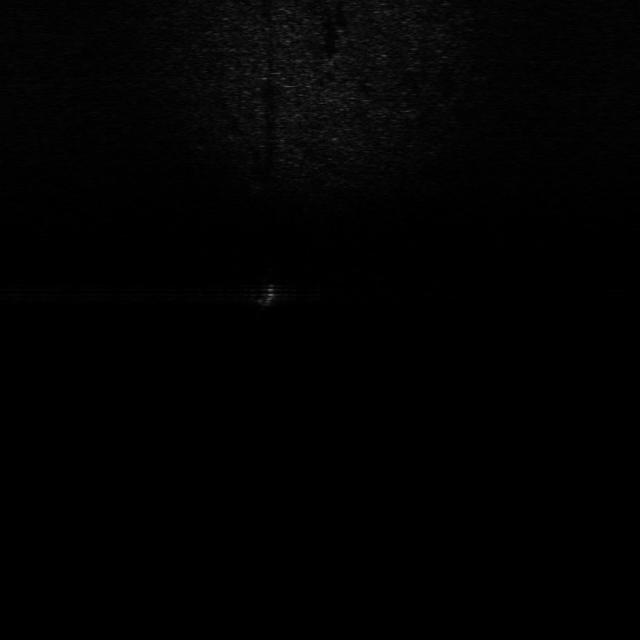human body: (250, 274, 280, 318)
